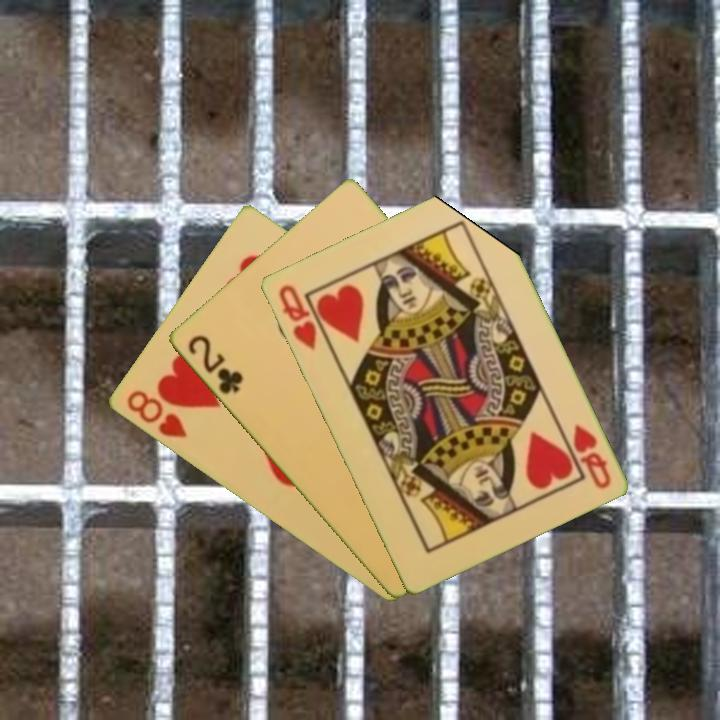2c: (184, 331, 246, 397)
8h: (122, 386, 190, 441)
Qh: (274, 280, 320, 353), (568, 420, 613, 492)
